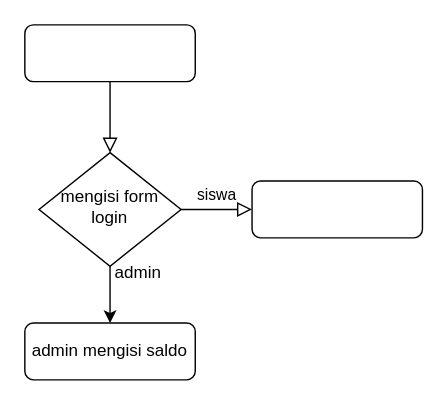
The diagram is 447 pixels wide and 405 high, and some of its shapes have lost their labels. The shapes that lost their labels are listed below. From the top down, each one's centre as x and y in pixels, then its label:
At (109,52): "mulai".
At (336,209): "melihat saldo dan pencarian nama".
